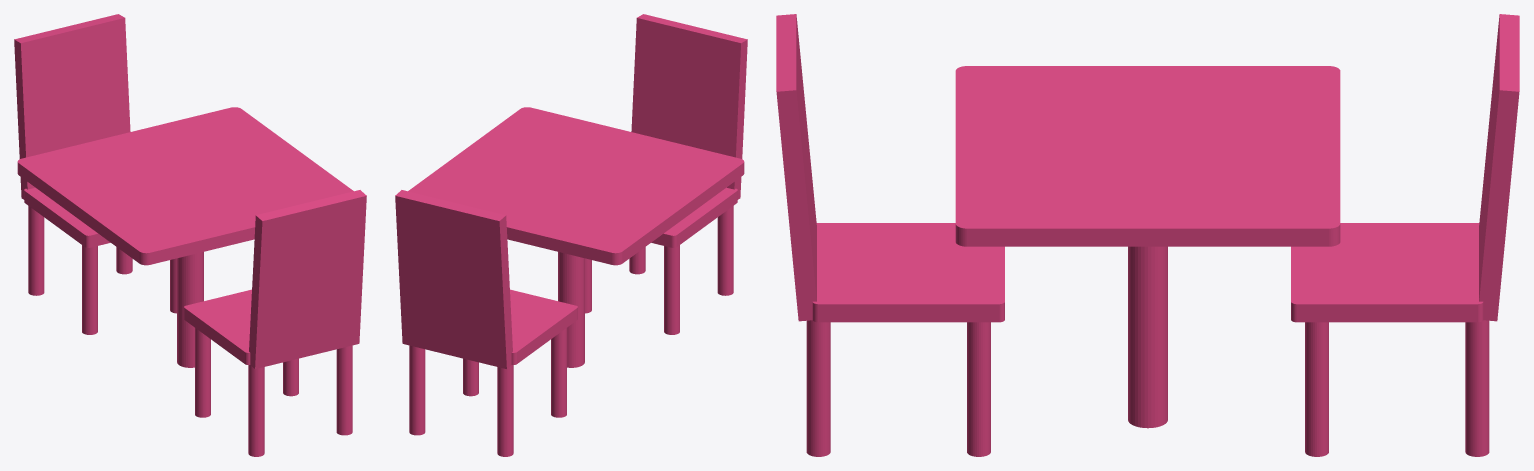
Rendered from Szekesasztal.glb.
3 renders of one model, left to right at view 1: azimuth 30°, elevation 25°; view 2: azimuth 150°, elevation 25°; view 3: azimuth 270°, elevation 25°, orthographic. The views are drawn at different scales.
Visible parts, largest first — view 1: VisualSceneNode1, VisualSceneNode1.009, VisualSceneNode1.003, VisualSceneNode1.008, VisualSceneNode1.002, VisualSceneNode1.001, VisualSceneNode1.013, VisualSceneNode1.012, VisualSceneNode1.007, VisualSceneNode1.005, VisualSceneNode1.011, VisualSceneNode1.010 (+2 smaller); view 2: VisualSceneNode1, VisualSceneNode1.003, VisualSceneNode1.009, VisualSceneNode1.001, VisualSceneNode1.002, VisualSceneNode1.008, VisualSceneNode1.007, VisualSceneNode1.006, VisualSceneNode1.013, VisualSceneNode1.011, VisualSceneNode1.005, VisualSceneNode1.004 (+2 smaller); view 3: VisualSceneNode1, VisualSceneNode1.001, VisualSceneNode1.008, VisualSceneNode1.009, VisualSceneNode1.003, VisualSceneNode1.002, VisualSceneNode1.006, VisualSceneNode1.012, VisualSceneNode1.004, VisualSceneNode1.010.
Boxes of the visible parts, x1=… form: VisualSceneNode1: x1=17, y1=107, x2=353, y2=265; VisualSceneNode1.009: x1=249, y1=190, x2=366, y2=369; VisualSceneNode1.003: x1=14, y1=14, x2=130, y2=199; VisualSceneNode1.008: x1=184, y1=289, x2=251, y2=364; VisualSceneNode1.002: x1=177, y1=252, x2=203, y2=367; VisualSceneNode1.001: x1=24, y1=187, x2=110, y2=247; VisualSceneNode1.013: x1=248, y1=365, x2=264, y2=456; VisualSceneNode1.012: x1=336, y1=345, x2=352, y2=435; VisualSceneNode1.007: x1=28, y1=206, x2=44, y2=295; VisualSceneNode1.005: x1=82, y1=245, x2=97, y2=334; VisualSceneNode1.011: x1=195, y1=328, x2=210, y2=417; VisualSceneNode1.010: x1=283, y1=358, x2=298, y2=396; VisualSceneNode1: x1=408, y1=107, x2=744, y2=265; VisualSceneNode1.003: x1=395, y1=190, x2=512, y2=368; VisualSceneNode1.009: x1=631, y1=14, x2=747, y2=199; VisualSceneNode1.001: x1=510, y1=289, x2=577, y2=364; VisualSceneNode1.002: x1=558, y1=252, x2=584, y2=367; VisualSceneNode1.008: x1=651, y1=187, x2=737, y2=247; VisualSceneNode1.007: x1=497, y1=365, x2=513, y2=456; VisualSceneNode1.006: x1=409, y1=345, x2=425, y2=435; VisualSceneNode1.013: x1=717, y1=206, x2=733, y2=295; VisualSceneNode1.011: x1=664, y1=245, x2=679, y2=334; VisualSceneNode1.005: x1=551, y1=328, x2=566, y2=417; VisualSceneNode1.004: x1=463, y1=358, x2=478, y2=396; VisualSceneNode1: x1=955, y1=66, x2=1340, y2=246; VisualSceneNode1.001: x1=1291, y1=223, x2=1483, y2=322; VisualSceneNode1.008: x1=812, y1=223, x2=1004, y2=322; VisualSceneNode1.009: x1=776, y1=14, x2=816, y2=321; VisualSceneNode1.003: x1=1479, y1=14, x2=1519, y2=321; VisualSceneNode1.002: x1=1128, y1=246, x2=1167, y2=428; VisualSceneNode1.006: x1=1465, y1=320, x2=1489, y2=456; VisualSceneNode1.012: x1=806, y1=320, x2=830, y2=456; VisualSceneNode1.004: x1=1305, y1=322, x2=1328, y2=456; VisualSceneNode1.010: x1=967, y1=322, x2=990, y2=456.
Size of the model in its own units: 0.96 by 1.01 by 1.85.
